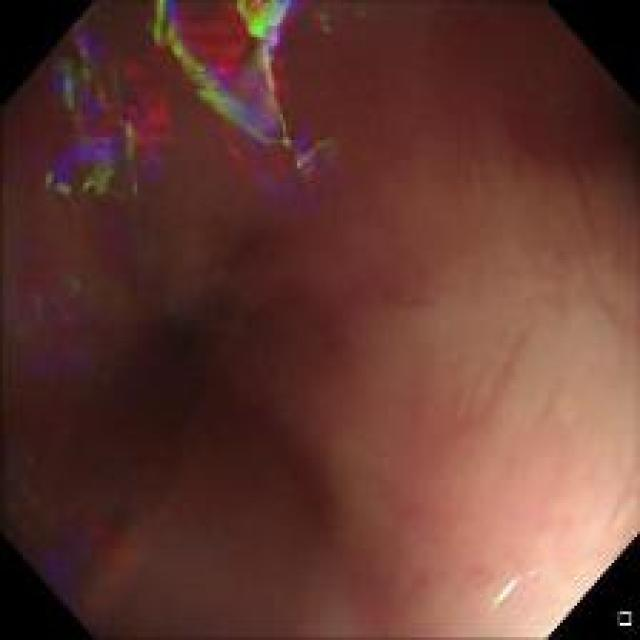color misalignment: (22, 0, 344, 212), (5, 248, 130, 609)
contrast: (28, 270, 229, 606)
specularity: (490, 569, 524, 609)
